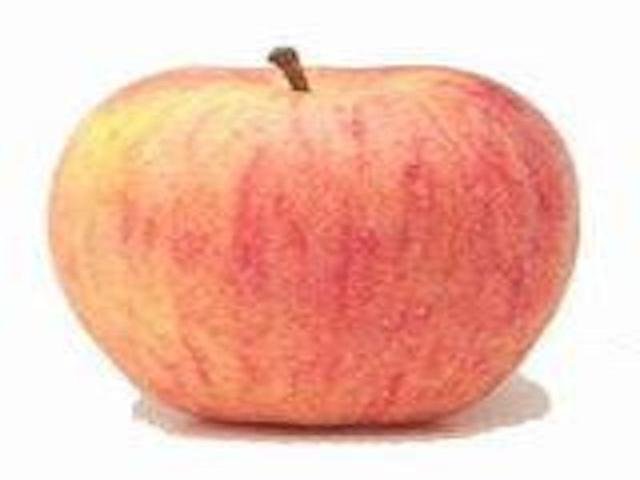apple: (39, 35, 591, 434)
